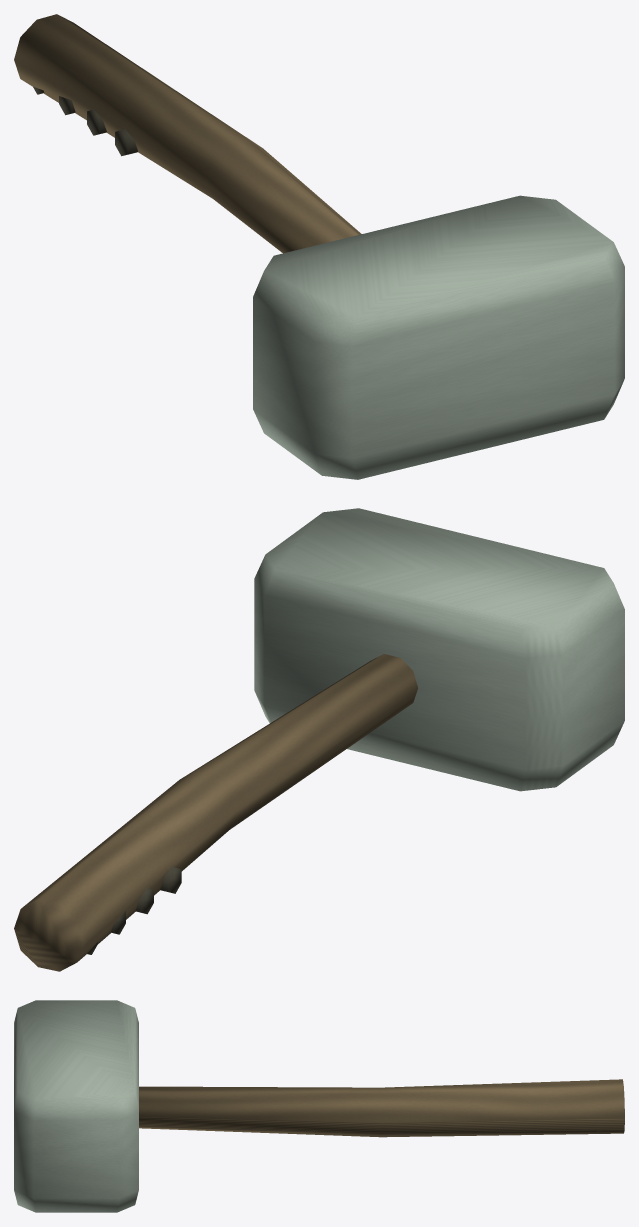
The model's file is hammer.glb.
3 renders of one model, top to bottom at view 1: azimuth 30°, elevation 25°; view 2: azimuth 150°, elevation 25°; view 3: azimuth 270°, elevation 25°, orthographic. The views are drawn at different scales.
Parts seen in each view (by area): view 1: Surface; view 2: Surface; view 3: Surface.
Boxes of the visible parts, left/top/right/bottom form: Surface: left=14, top=14, right=624, bottom=479; Surface: left=14, top=508, right=624, bottom=971; Surface: left=14, top=1000, right=624, bottom=1212.
Size of the model in its own units: 0.32 by 0.16 by 0.782.
Materials: 1 (1 with a texture image).
